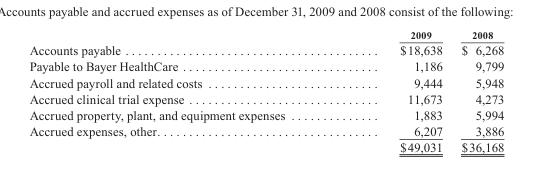table: (28, 29, 503, 153)
table column: (28, 29, 341, 153), (341, 29, 451, 153), (451, 29, 503, 153)
table column header: (28, 29, 503, 41)
table row: (28, 41, 503, 58), (28, 58, 503, 74), (28, 74, 503, 90), (28, 90, 503, 106), (28, 106, 503, 122), (28, 122, 503, 138), (28, 138, 503, 153), (28, 29, 503, 41)
